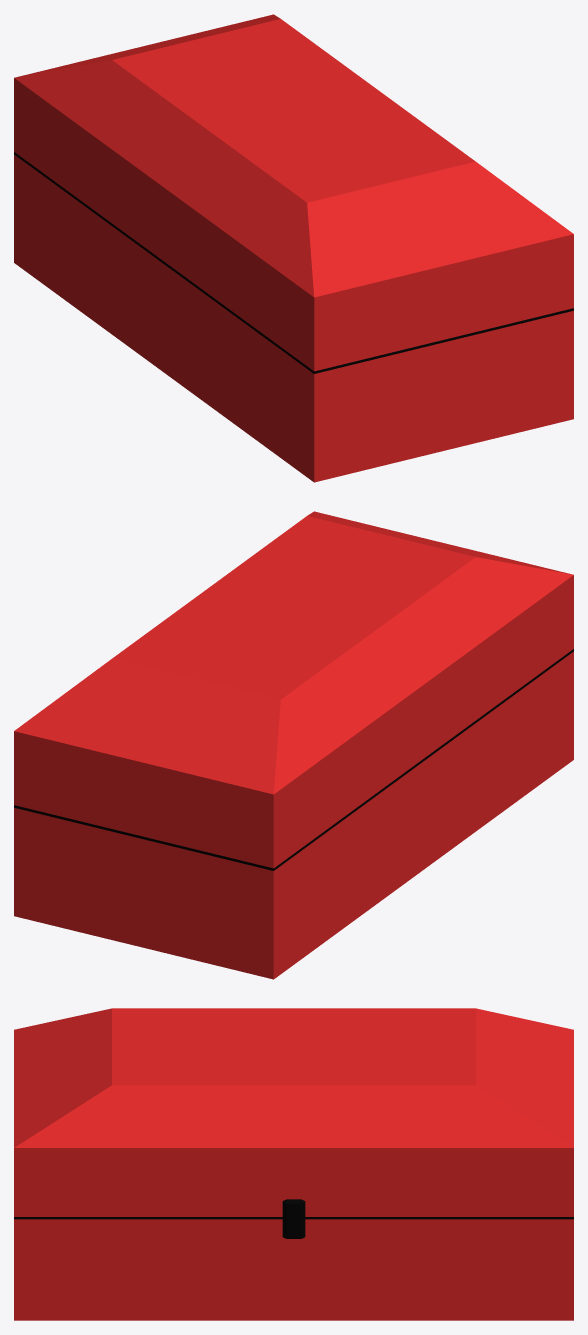
File: caixa.glb
The picture shows the model from 3 angles, top to bottom: view 1: azimuth 30°, elevation 25°; view 2: azimuth 150°, elevation 25°; view 3: azimuth 270°, elevation 25°; orthographic projection. The views are drawn at different scales.
Visible parts, largest first — view 1: Cube; view 2: Cube; view 3: Cube.
Part boxes in pixels (x1=…): Cube: x1=14, y1=14, x2=573, y2=482; Cube: x1=14, y1=511, x2=573, y2=979; Cube: x1=14, y1=1008, x2=573, y2=1320.
Bounding box in the file's own units: 1.83 × 1.51 × 3.58.
